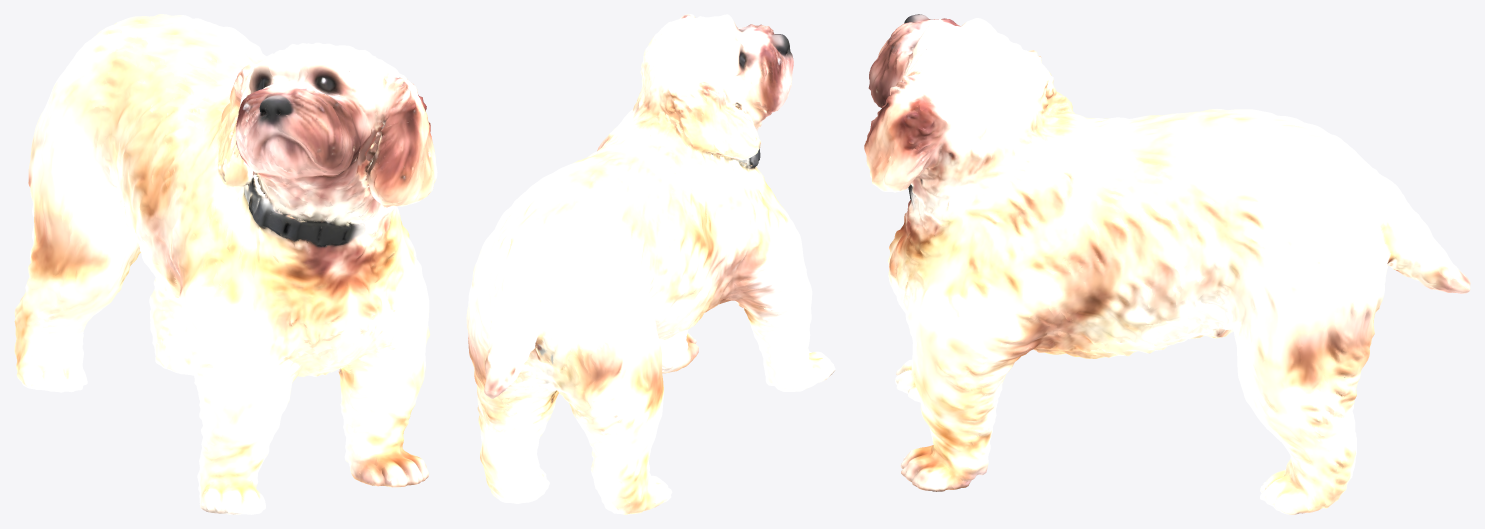
Rendered from sleep_pose_v8.glb.
3 renders of one model, left to right at view 1: azimuth 30°, elevation 25°; view 2: azimuth 150°, elevation 25°; view 3: azimuth 270°, elevation 25°, orthographic. The views are drawn at different scales.
Visible parts, largest first — view 1: char1; view 2: char1; view 3: char1.
Boxes of the visible parts, <box> form: char1: <box>14,14,437,514</box>; char1: <box>466,14,835,514</box>; char1: <box>864,14,1470,514</box>.
Bounding box in the file's own units: 0.00184 × 0.00333 × 0.00409.
Materials: 1 (1 with a texture image).
